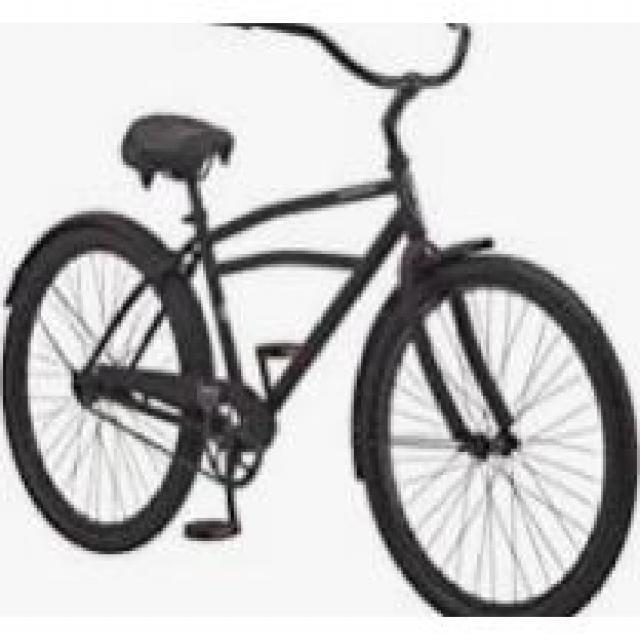bicycle: (4, 21, 617, 575)
